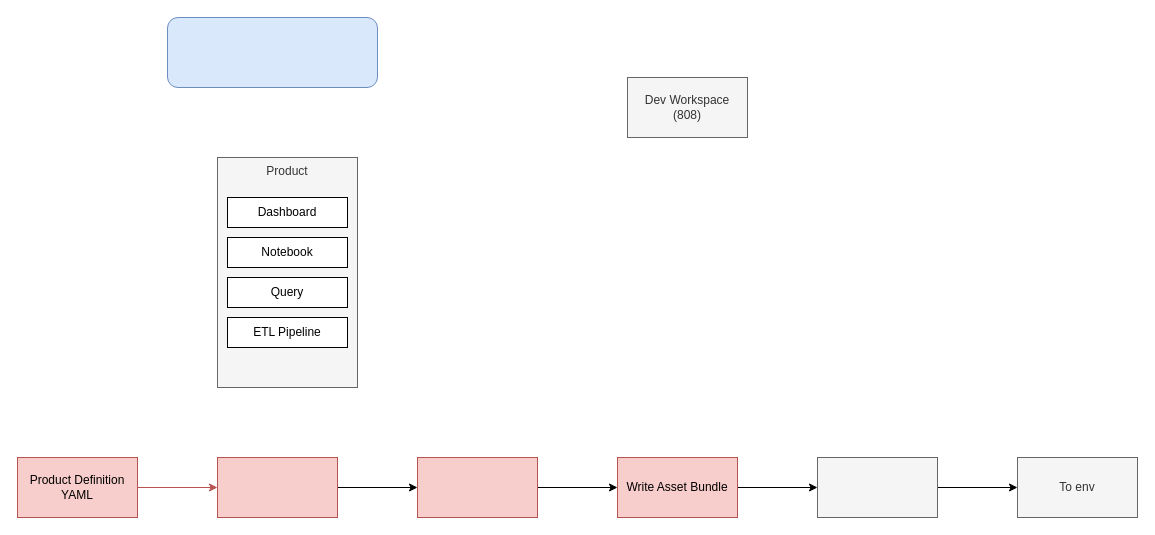
Image size: 1155x535. Some labels were removed from this diagram. The centre of each missing label's shape, as x and y in pixels:
"Assest Bundle" belongs at pixel 477 487.
"Packaging mechanisms" belongs at pixel 277 487.
"Pipeline" belongs at pixel 877 487.
"Prod Workspace (505)" belongs at pixel 272 52.
